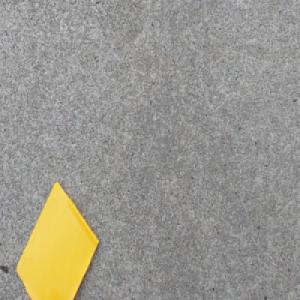PlasticPart: (15, 179, 100, 300)
